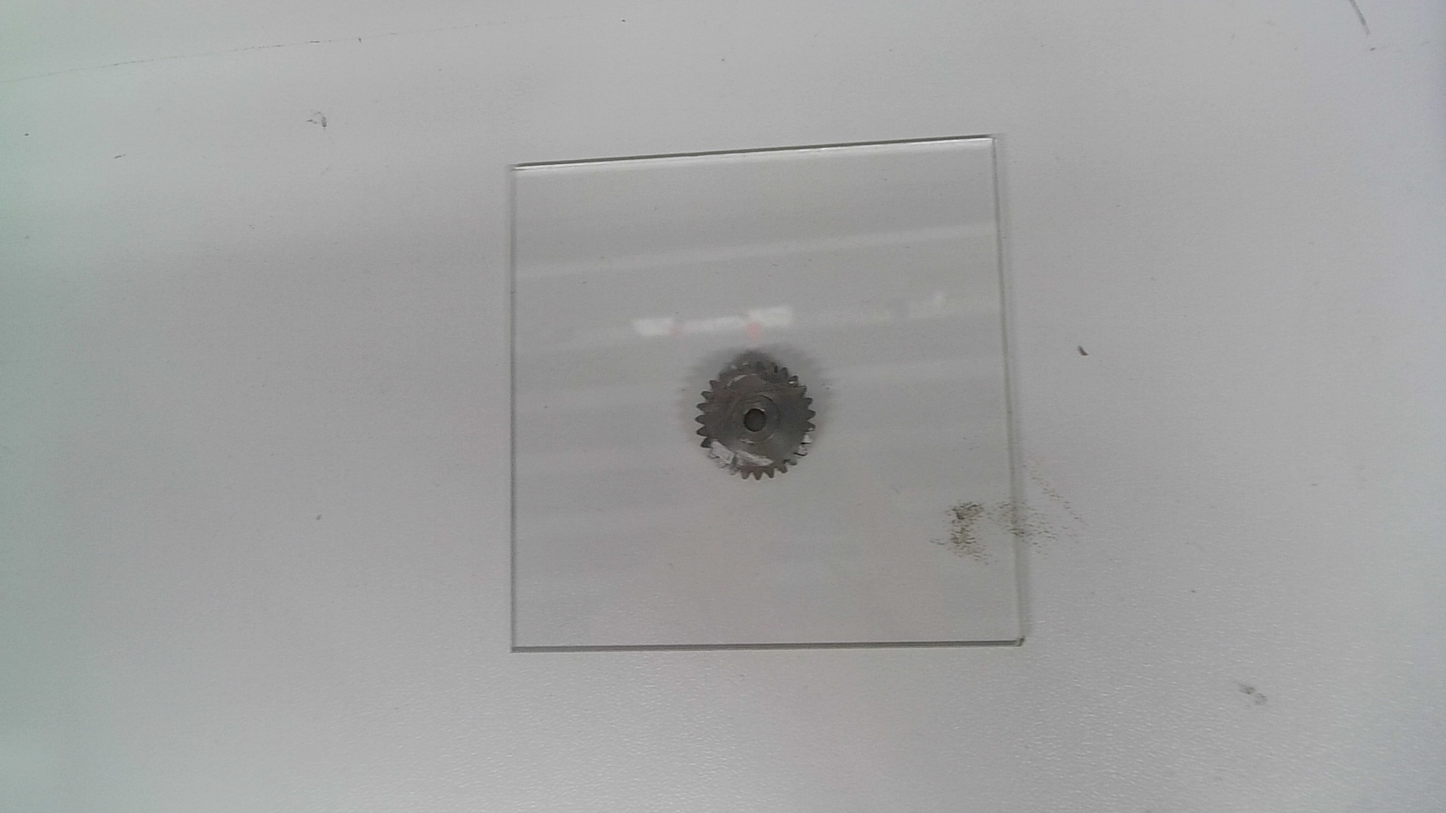gear: (693, 359, 820, 485)
